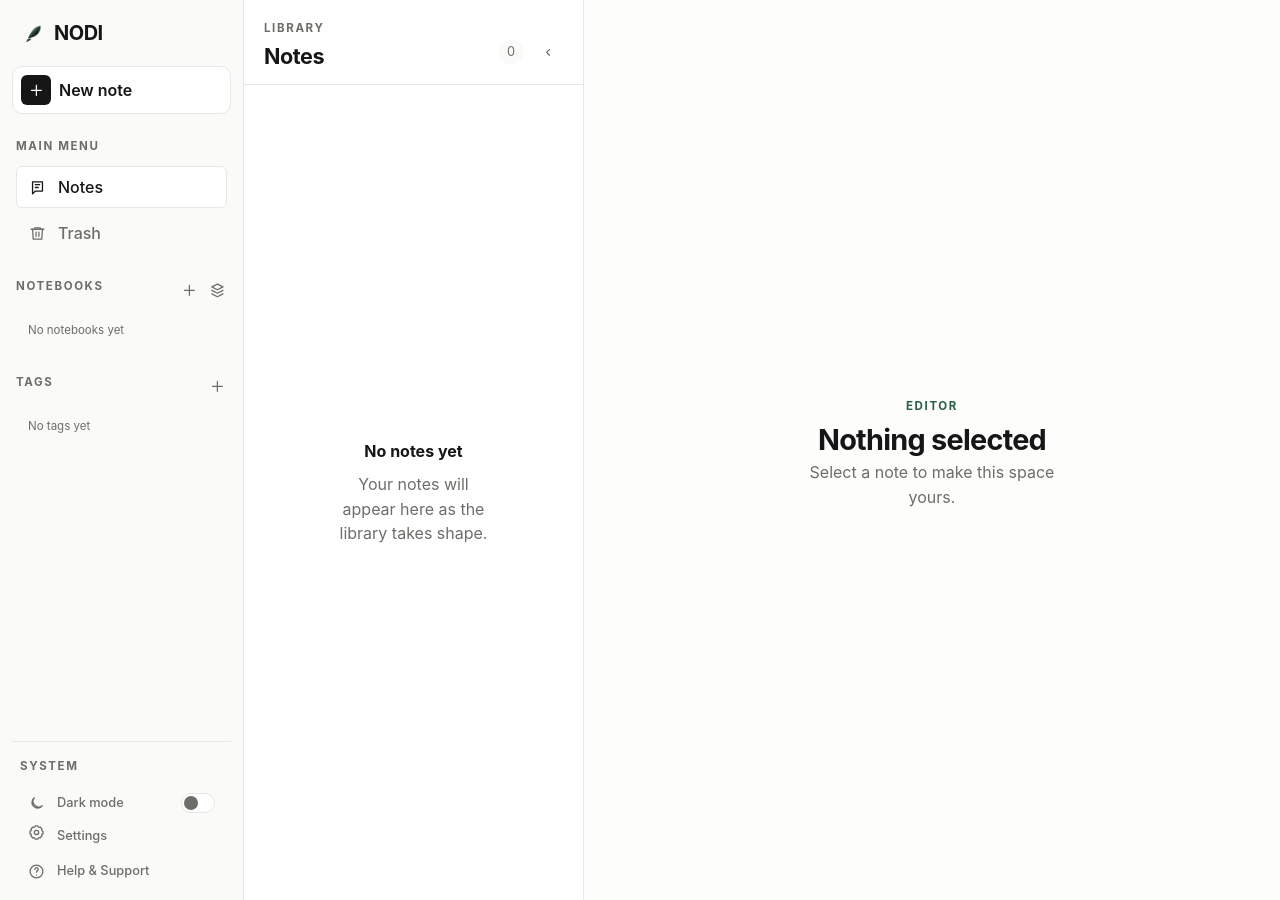
Test case: NODI app › saves a search and reopens its query from the sidebar
Step 1. Type keys "{Control>}k{/Control}"
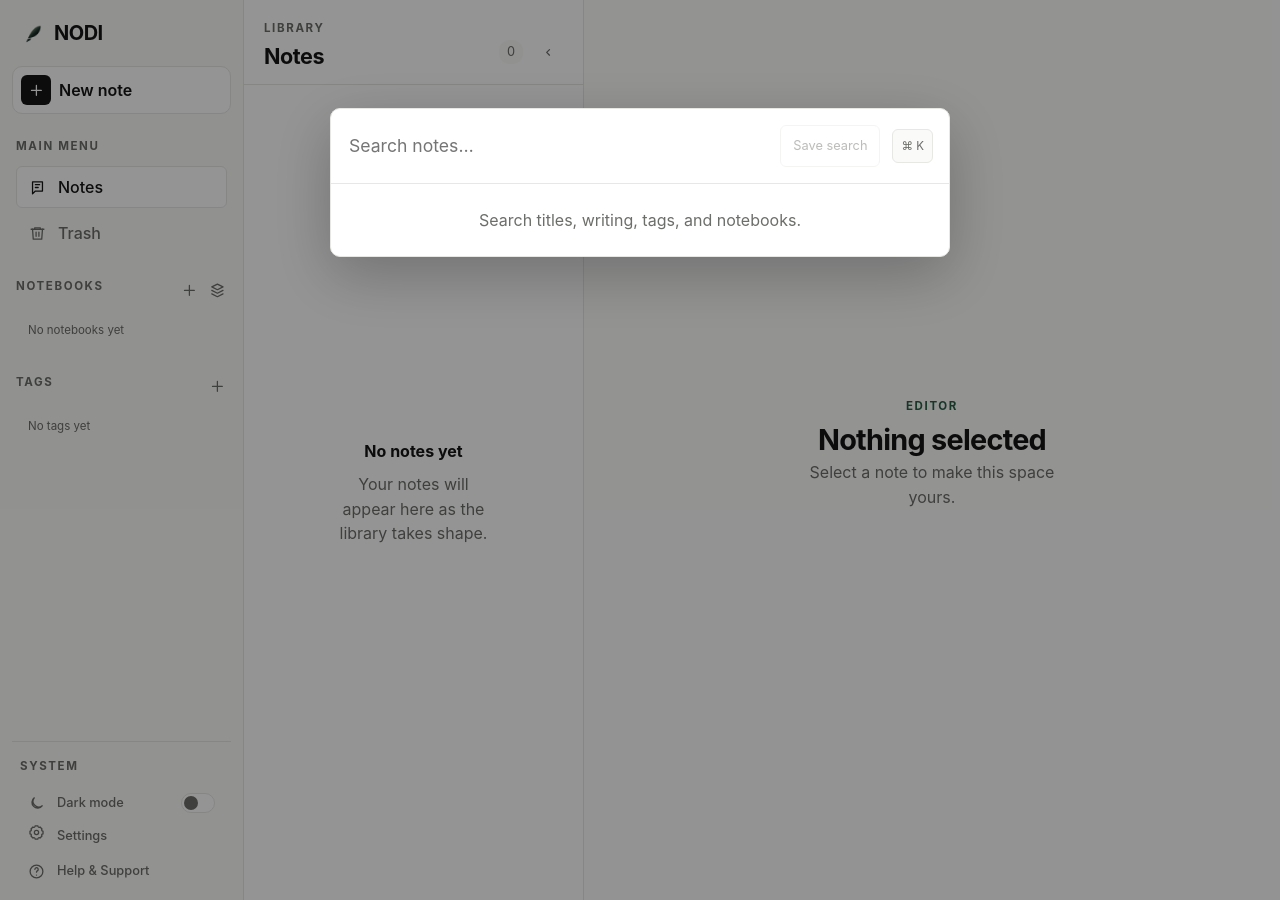
Step 2. Type "tag:ideas roadmap" into the search field labelled "Search notes" → x=558, y=146, box x1=347 y1=133 x2=768 y2=159
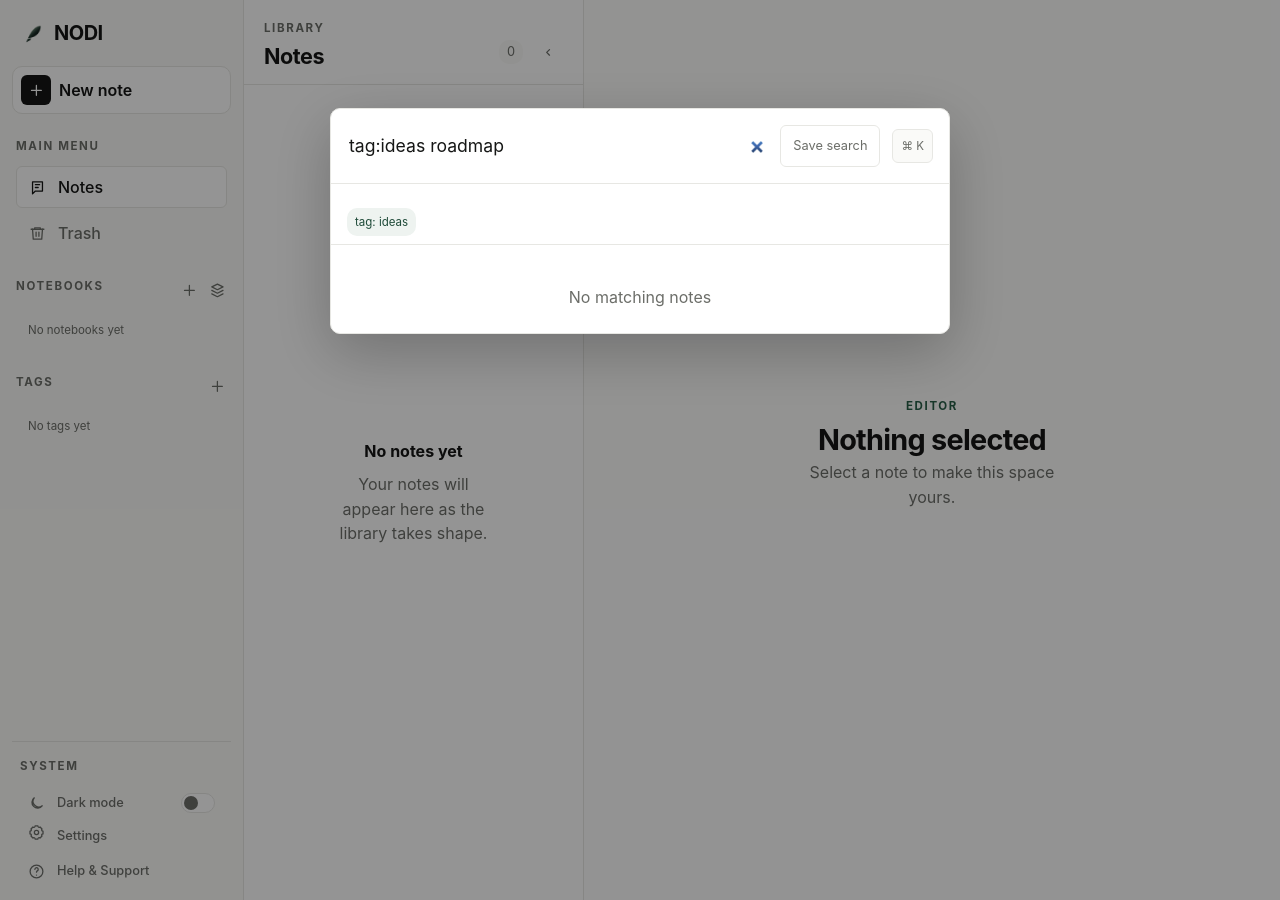
Step 3. Click the button "Save search" → x=830, y=146, box x1=780 y1=125 x2=880 y2=167
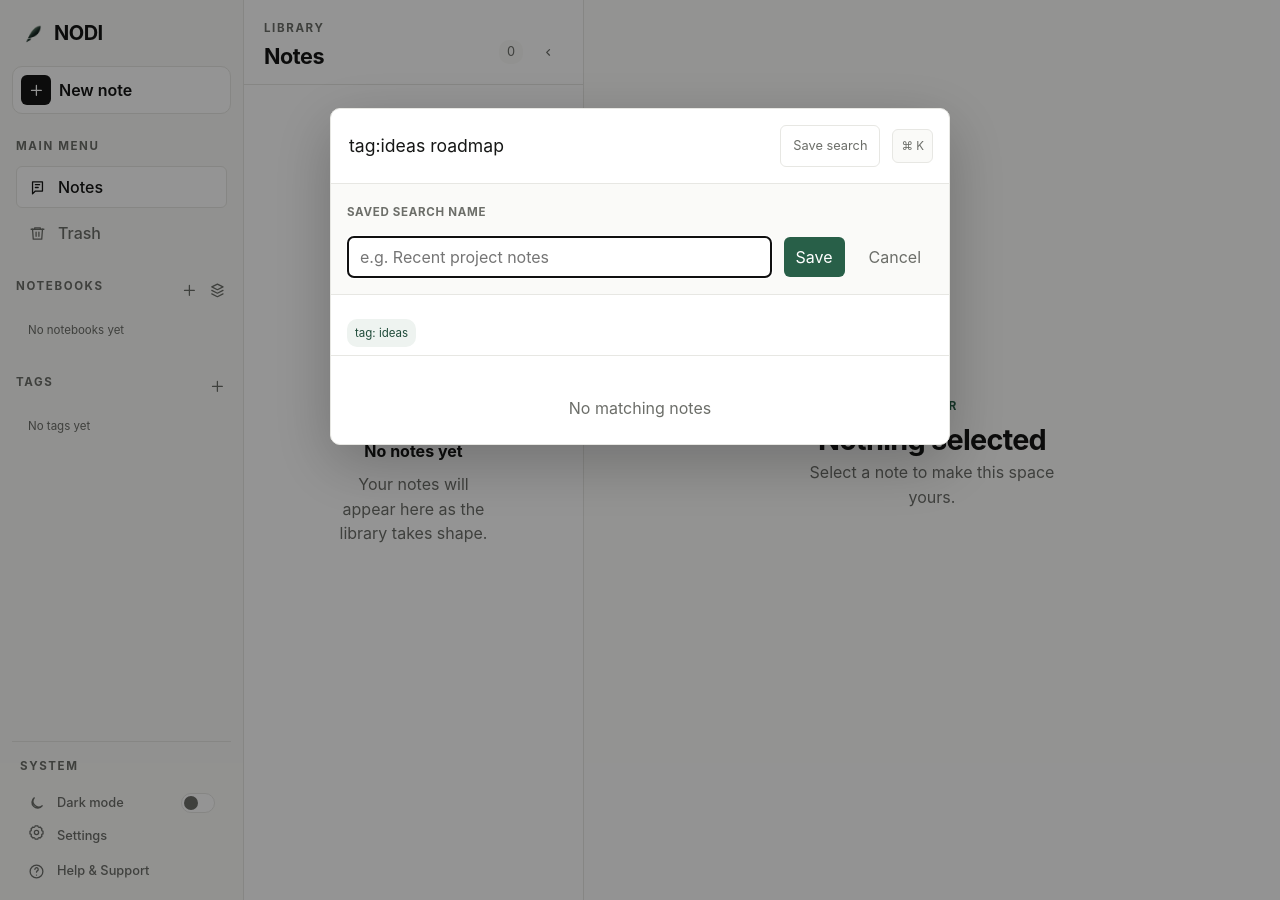
Step 4. Type "Project ideas" into the field labelled "Saved search name" → x=559, y=257, box x1=347 y1=236 x2=772 y2=278
Step 5. Click the button "Save" → x=814, y=257, box x1=784 y1=237 x2=844 y2=277
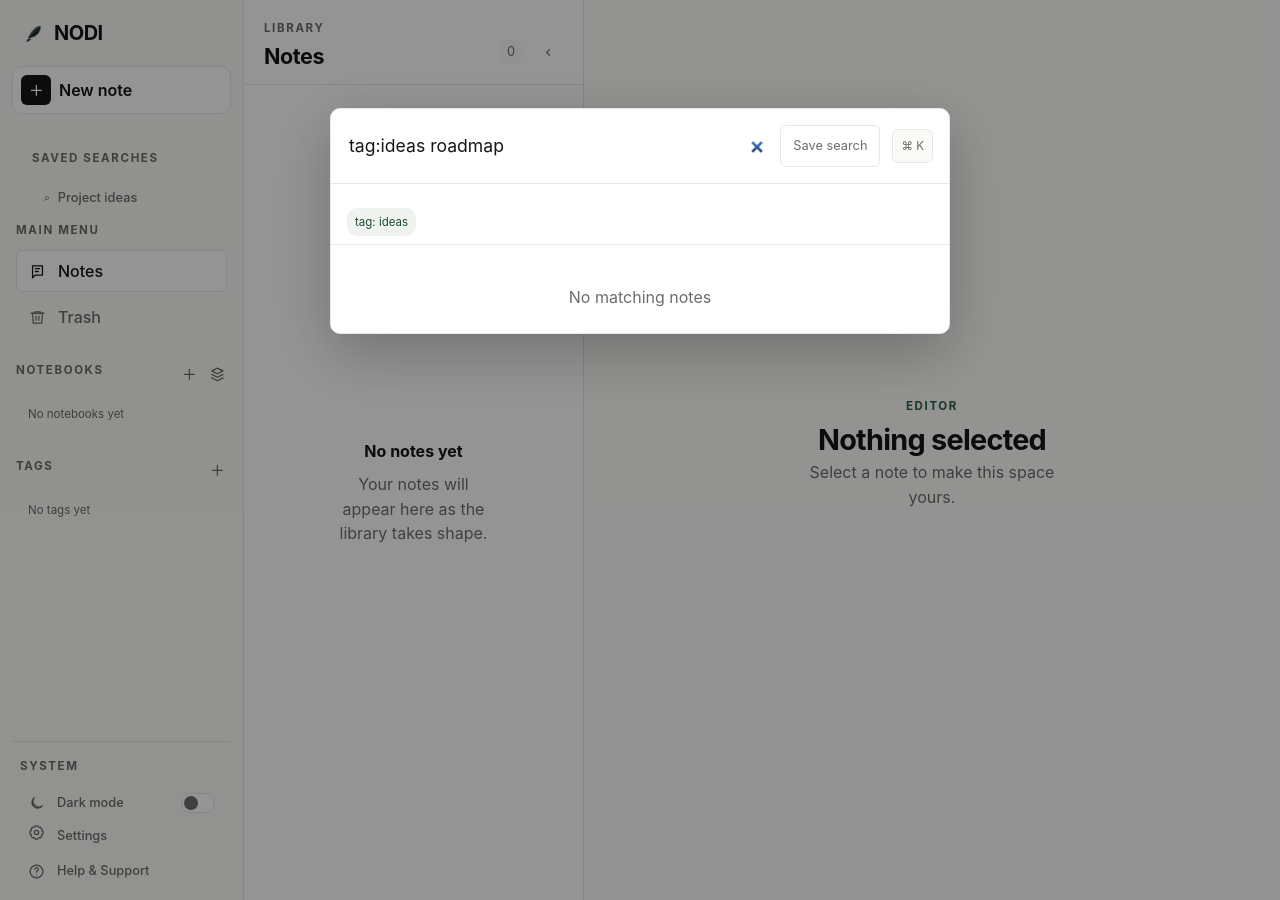
Step 6. Press Escape
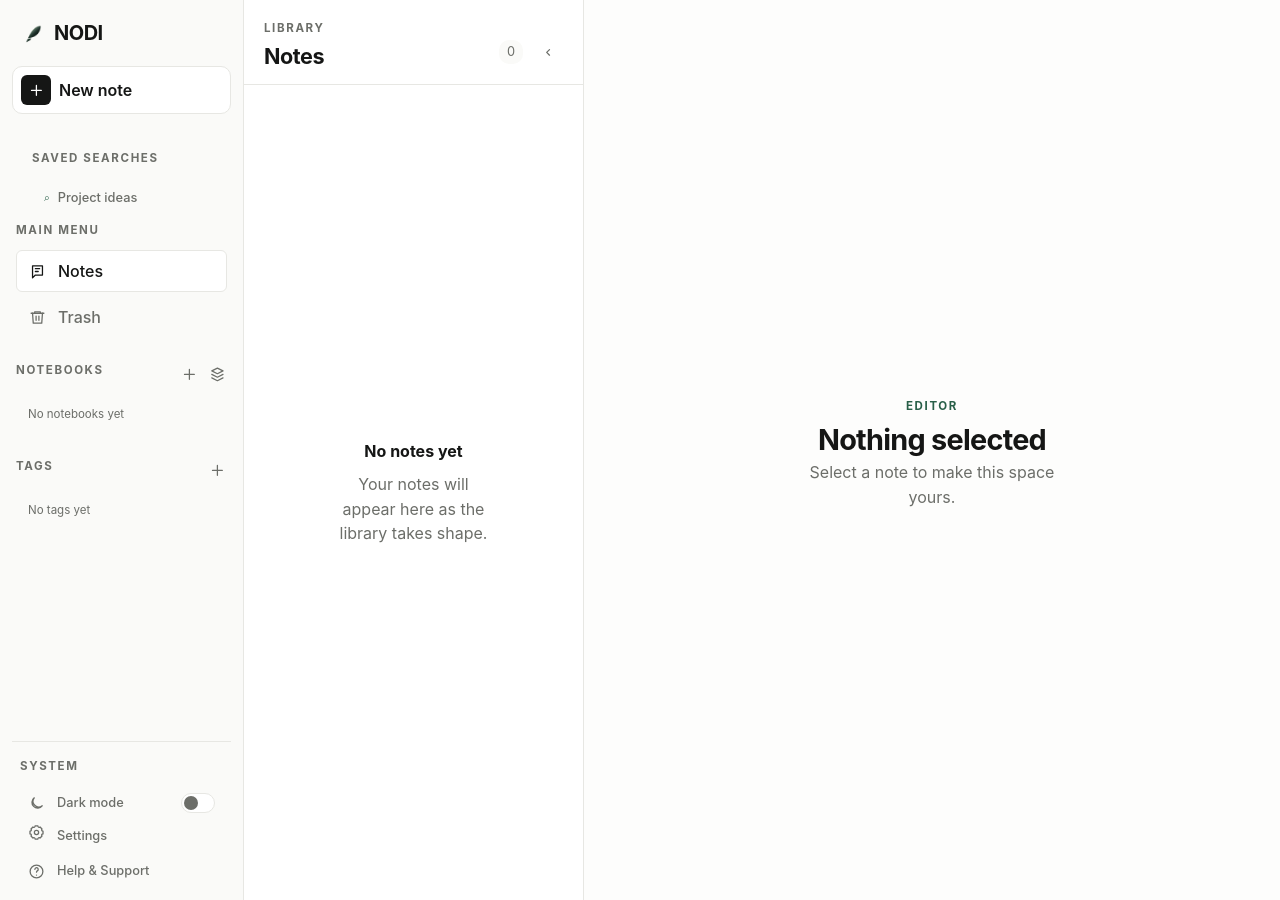
Step 7. Click the button "⌕ Project ideas" → x=105, y=198, box x1=32 y1=178 x2=178 y2=218
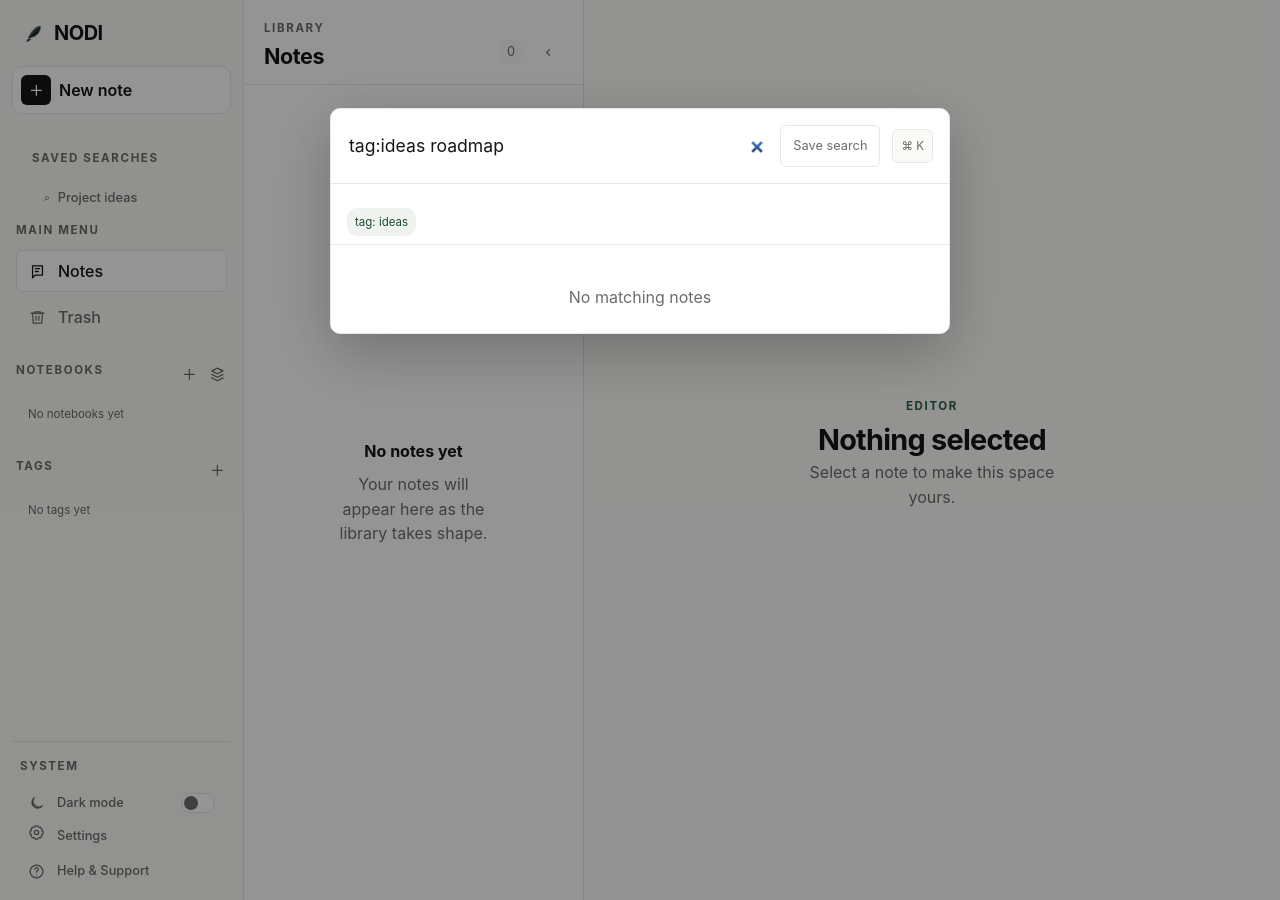
Expected: the search field named "Search notes" holds "tag:ideas roadmap", x1=347 y1=133 x2=768 y2=159
